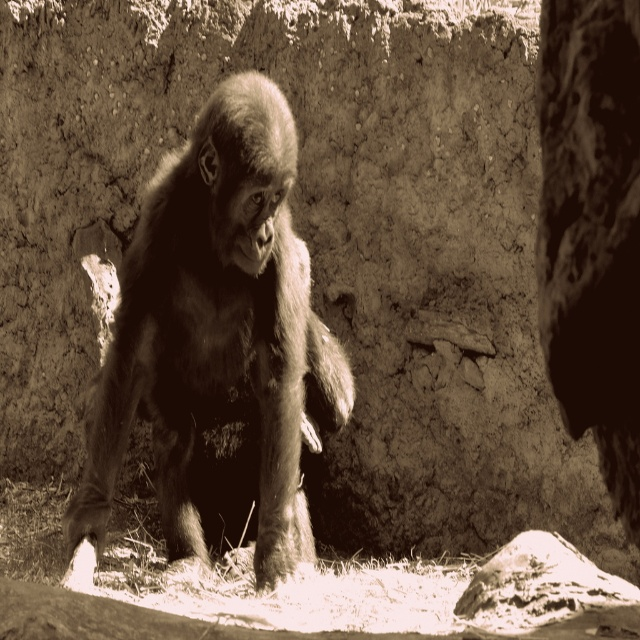Monkey: (53, 64, 373, 606)
